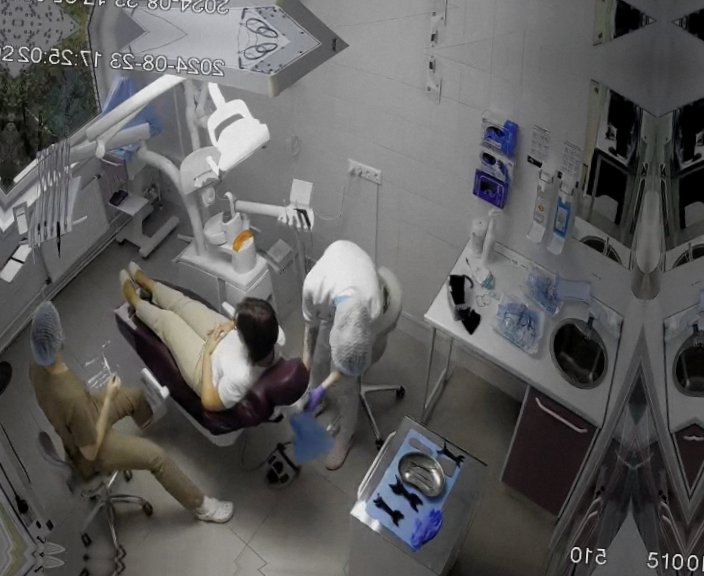Patient: (104, 255, 319, 445)
